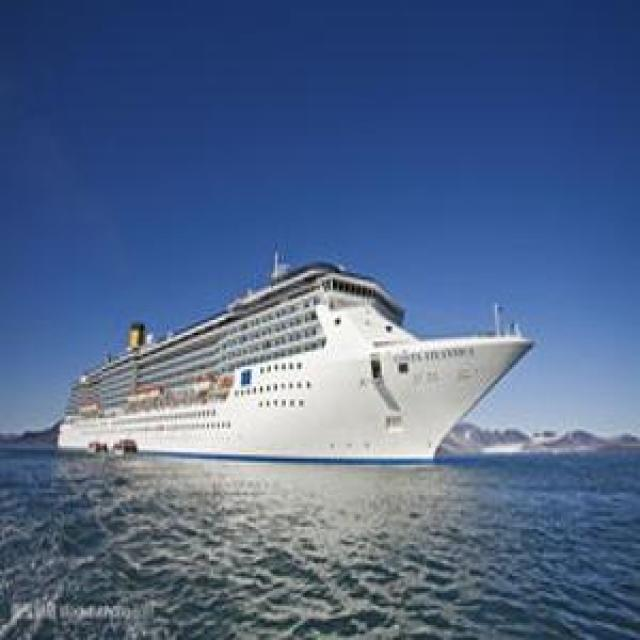passenger ship: (51, 258, 534, 464)
